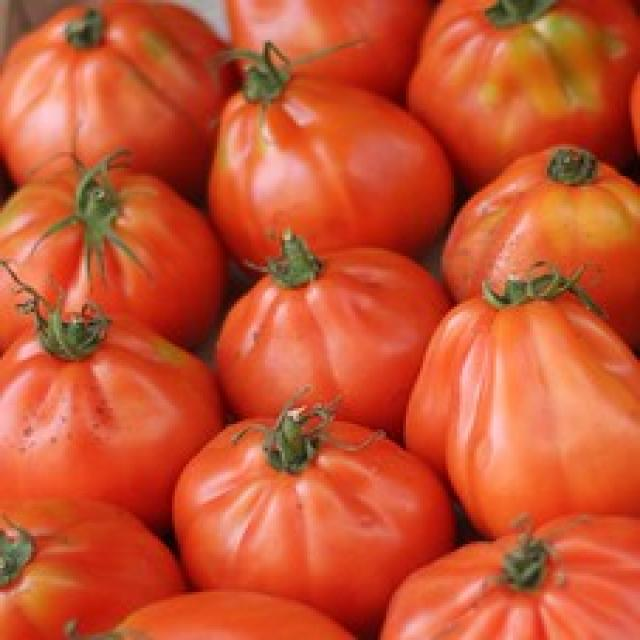Tomato: (165, 410, 462, 632), (202, 34, 452, 271), (0, 305, 221, 528), (209, 237, 456, 426)
